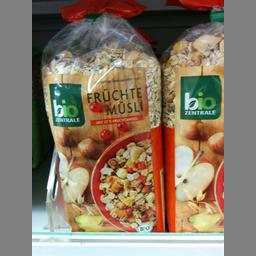cereal: (39, 14, 162, 234), (162, 15, 228, 233)
